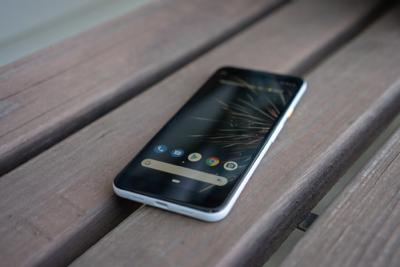Mobile Phone: (111, 63, 307, 223)
